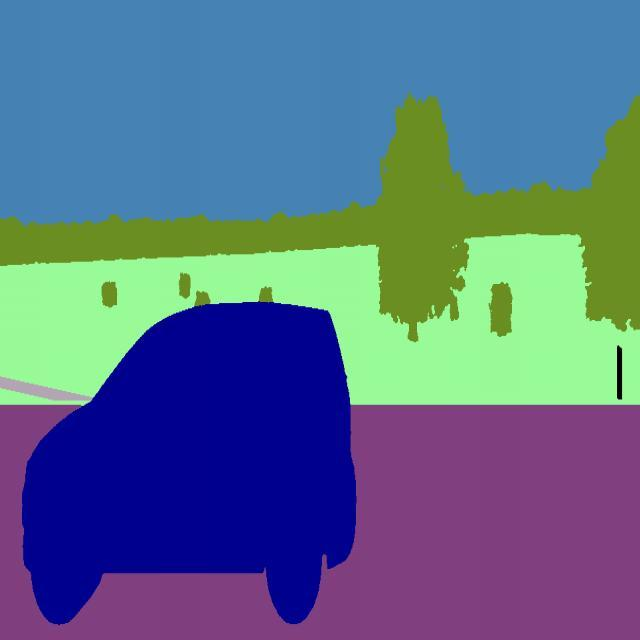unsafe: (19, 299, 362, 627)
